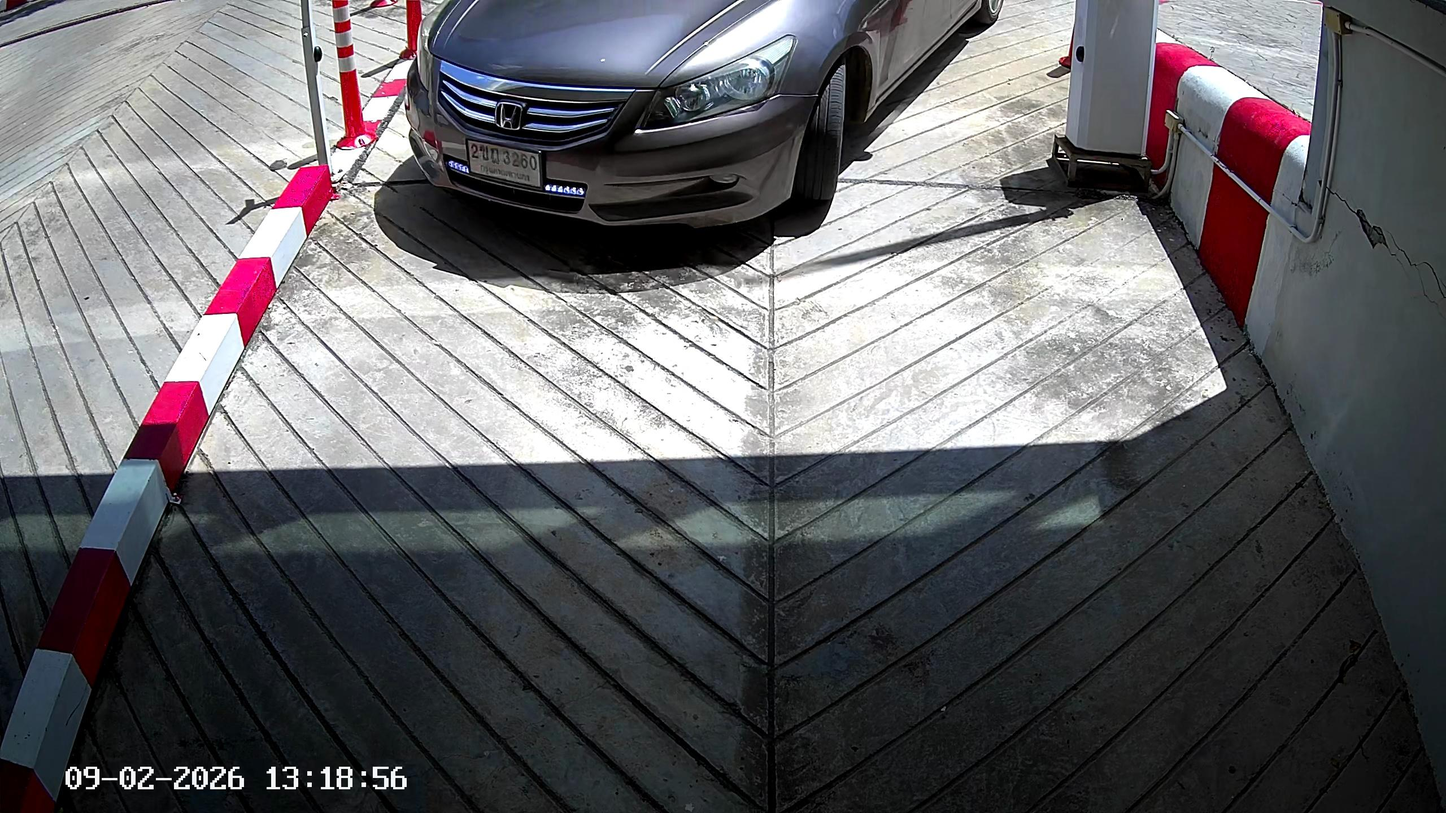car: (399, 1, 1005, 239)
license-plate: (464, 130, 545, 195)
